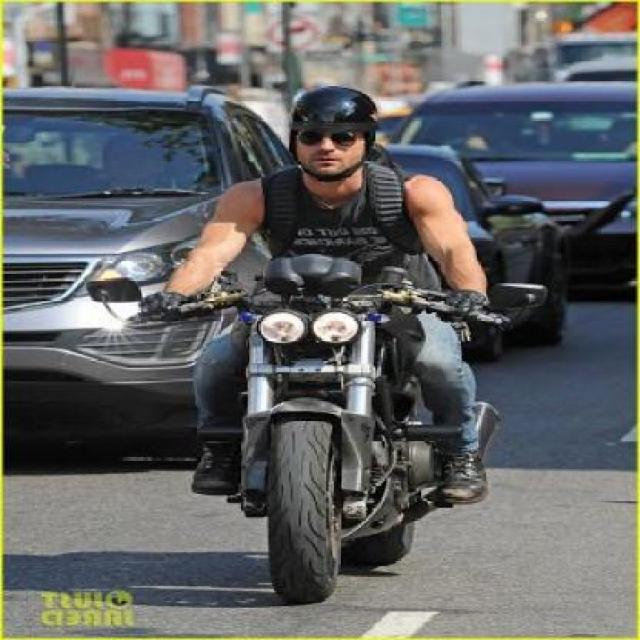helmet: (276, 82, 382, 192)
motorcycle: (155, 74, 522, 608)
